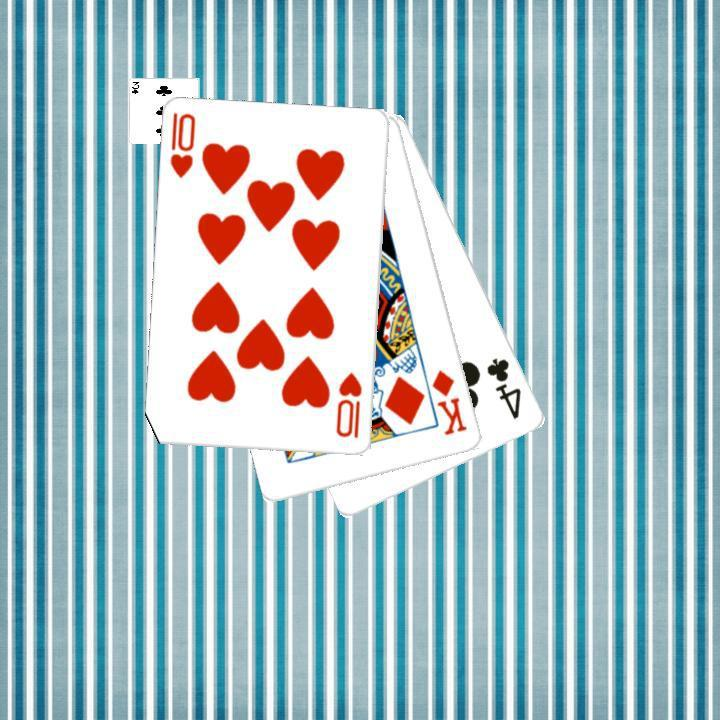10: (332, 369, 365, 440), (166, 109, 198, 181)
4: (482, 353, 524, 422)
K: (428, 365, 469, 438)
